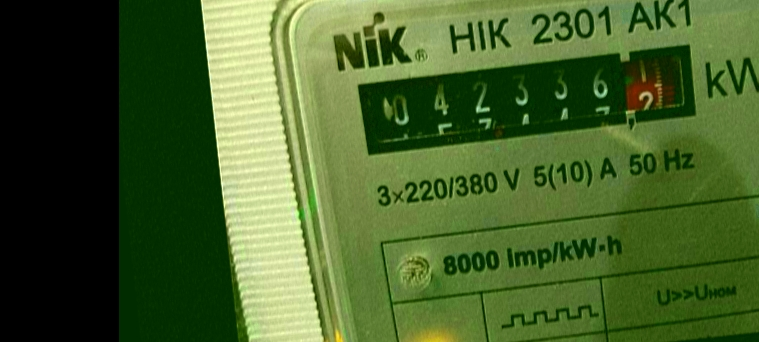0: (389, 91, 413, 128)
1: (635, 56, 651, 86)
2: (469, 78, 493, 116), (635, 89, 657, 112)
3: (509, 70, 533, 110), (547, 66, 571, 103)
4: (429, 80, 452, 119)
6: (586, 64, 612, 101)
screen: (349, 34, 709, 165)
